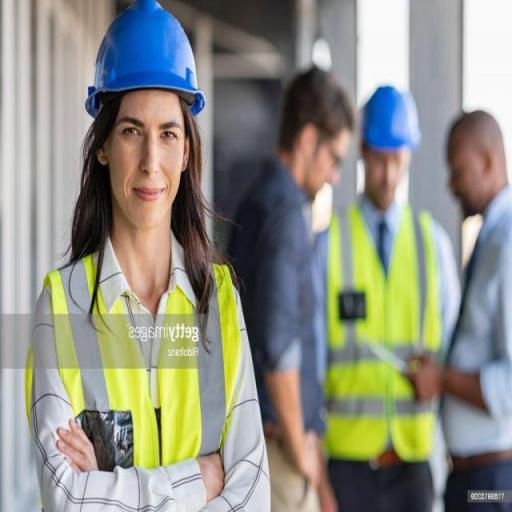helmet: (84, 4, 206, 122), (356, 77, 423, 157)
vest: (42, 244, 246, 484), (320, 199, 444, 465)
